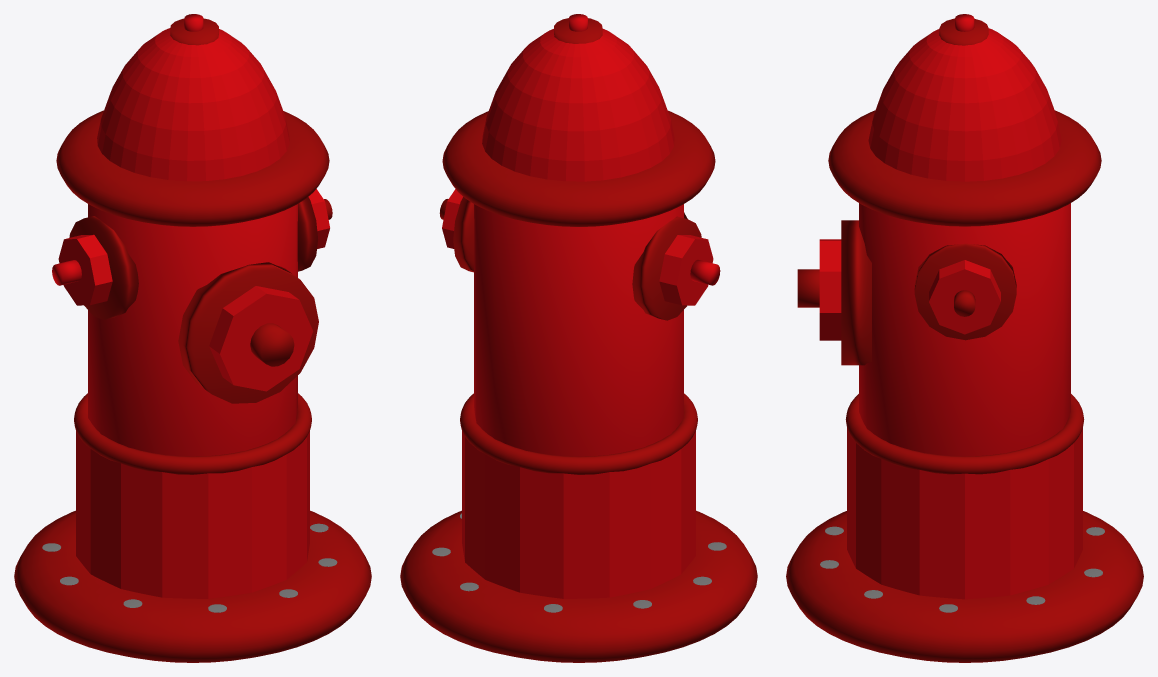
Rendered from firehydrant.fbx.
3 views of the same model, side by side, from view 1: azimuth 30°, elevation 25°; view 2: azimuth 150°, elevation 25°; view 3: azimuth 270°, elevation 25° (orthographic).
Parts seen in each view (by area): view 1: Cylinder, Cylinder.001, Torus, Sphere, Torus.002, Cylinder.020, Cylinder.021, Torus.001, Cylinder.014, Cylinder.015, Cylinder.022, Cylinder.019 (+3 smaller); view 2: Cylinder, Cylinder.001, Torus, Sphere, Torus.002, Torus.001, Cylinder.014, Cylinder.015, Cylinder.019, Cylinder.012, Cylinder.018, Cylinder.016; view 3: Cylinder, Cylinder.001, Torus, Sphere, Torus.002, Torus.001, Cylinder.020, Cylinder.019, Cylinder.018, Cylinder.021, Cylinder.012, Cylinder.022.
Boxes of the visible parts, x1,y1,x2,y2 form: Cylinder: (88,204,297,456); Cylinder.001: (76,431,309,598); Torus: (14,510,371,662); Sphere: (97,28,289,181); Torus.002: (56,110,329,226); Cylinder.020: (178,262,318,403); Cylinder.021: (209,286,313,391); Torus.001: (74,393,311,474); Cylinder.014: (69,216,138,319); Cylinder.015: (58,234,112,305); Cylinder.022: (250,323,294,366); Cylinder.019: (297,197,318,271); Cylinder: (474,204,683,456); Cylinder.001: (462,431,695,598); Torus: (400,510,757,662); Sphere: (482,29,674,181); Torus.002: (442,110,715,226); Torus.001: (460,393,697,474); Cylinder.014: (632,216,701,320); Cylinder.015: (659,235,713,305); Cylinder.019: (453,197,474,272); Cylinder.012: (554,18,602,43); Cylinder.018: (442,189,462,248); Cylinder.016: (690,260,720,285); Cylinder: (859,203,1070,456); Cylinder.001: (847,428,1082,599); Torus: (786,511,1143,662); Sphere: (868,28,1061,181); Torus.002: (828,110,1101,226); Torus.001: (845,394,1084,474); Cylinder.020: (841,220,871,365); Cylinder.019: (914,243,1016,340); Cylinder.018: (929,260,1000,334); Cylinder.021: (819,239,841,340); Cylinder.012: (939,18,988,45); Cylinder.022: (797,269,819,307).
Bounding box in the file's own units: 39.78 × 71.85 × 39.78.
